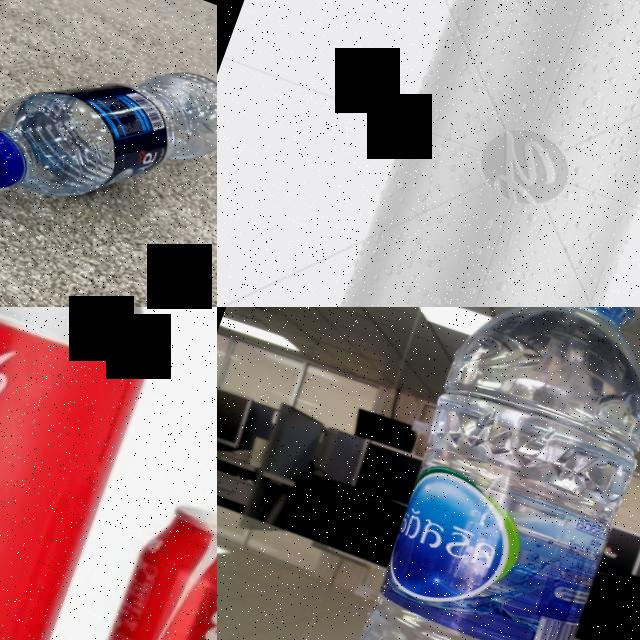bottle: (297, 307, 640, 640), (0, 0, 217, 266)
can: (319, 0, 640, 307), (0, 307, 181, 640), (29, 489, 217, 640)
